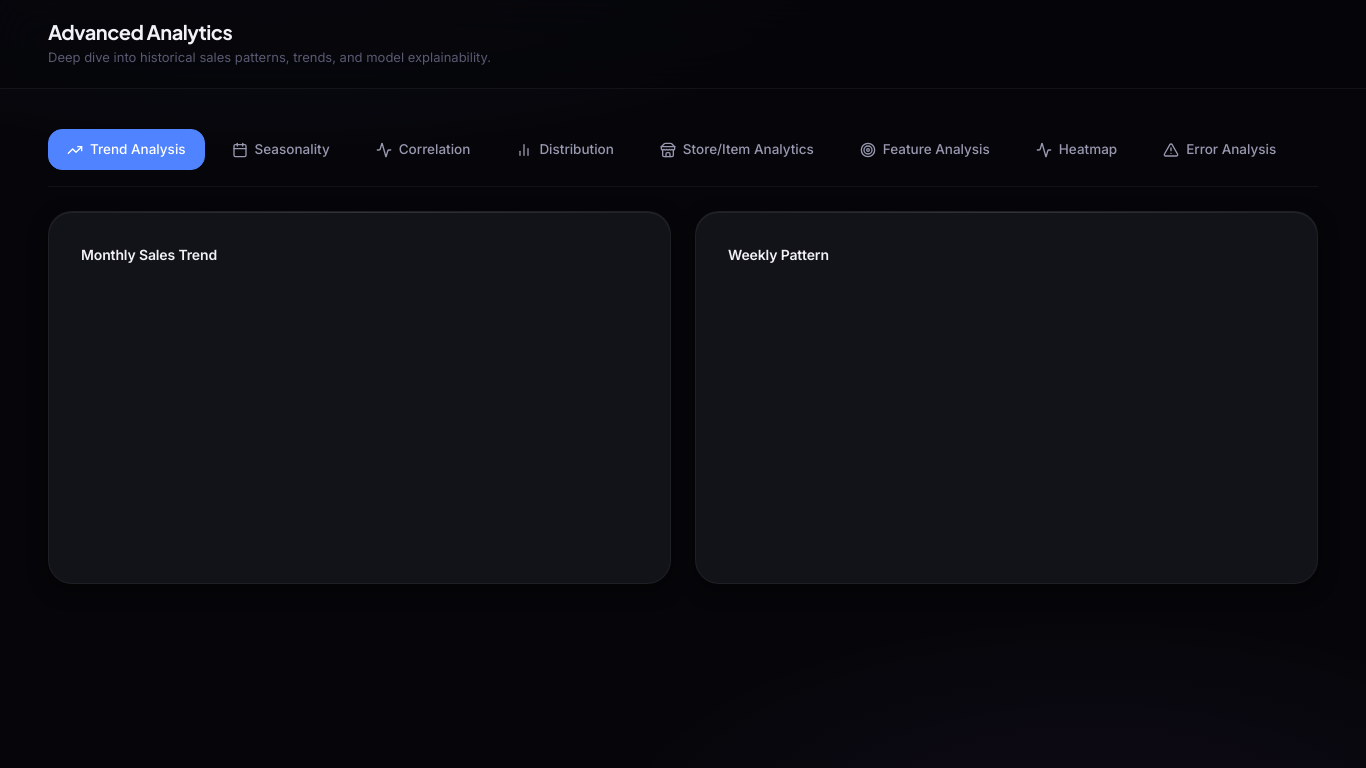
renders error analysis chart with real prediction data
Note: Switch to the Error Analysis tab
Click the button "Error Analysis": (1220, 150) [1144,129,1295,170]
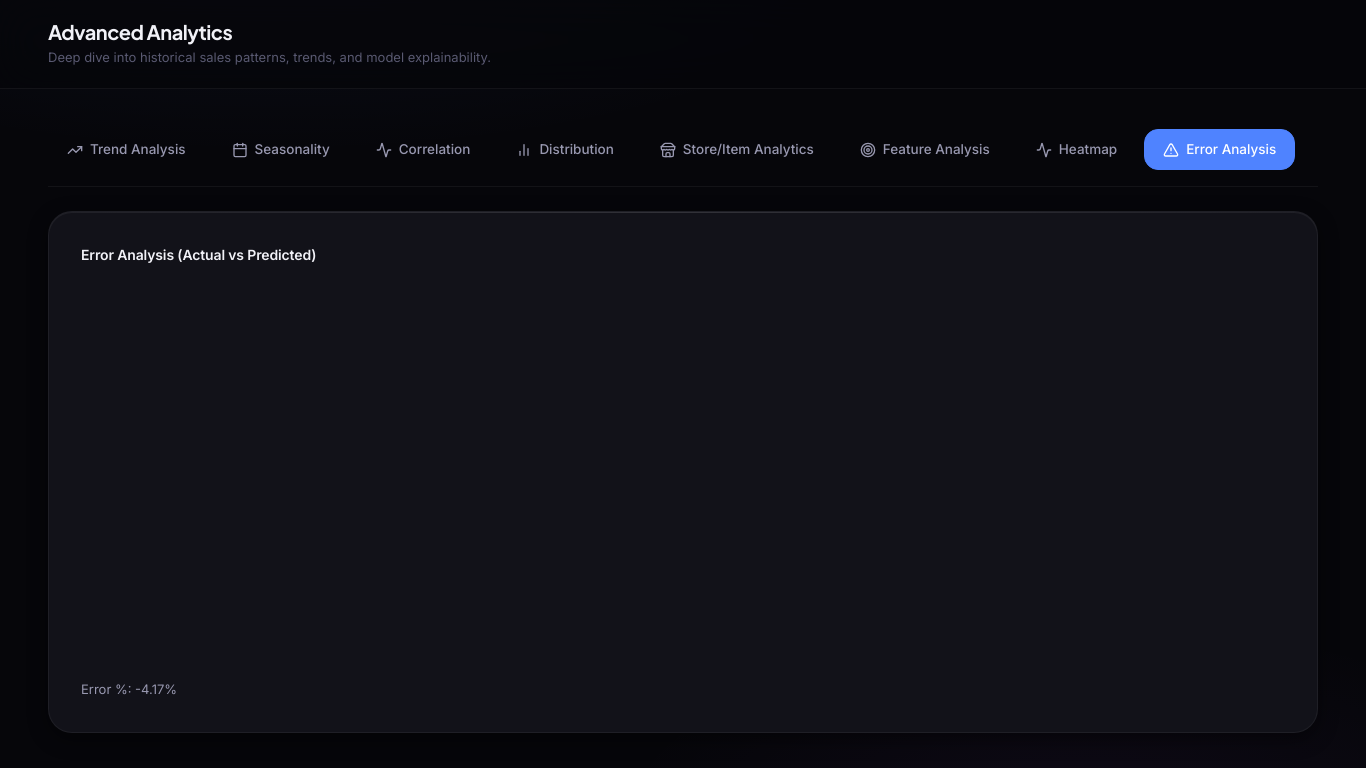
Result: the text "Error %: -4.17%" is shown at [81,681,177,697]
